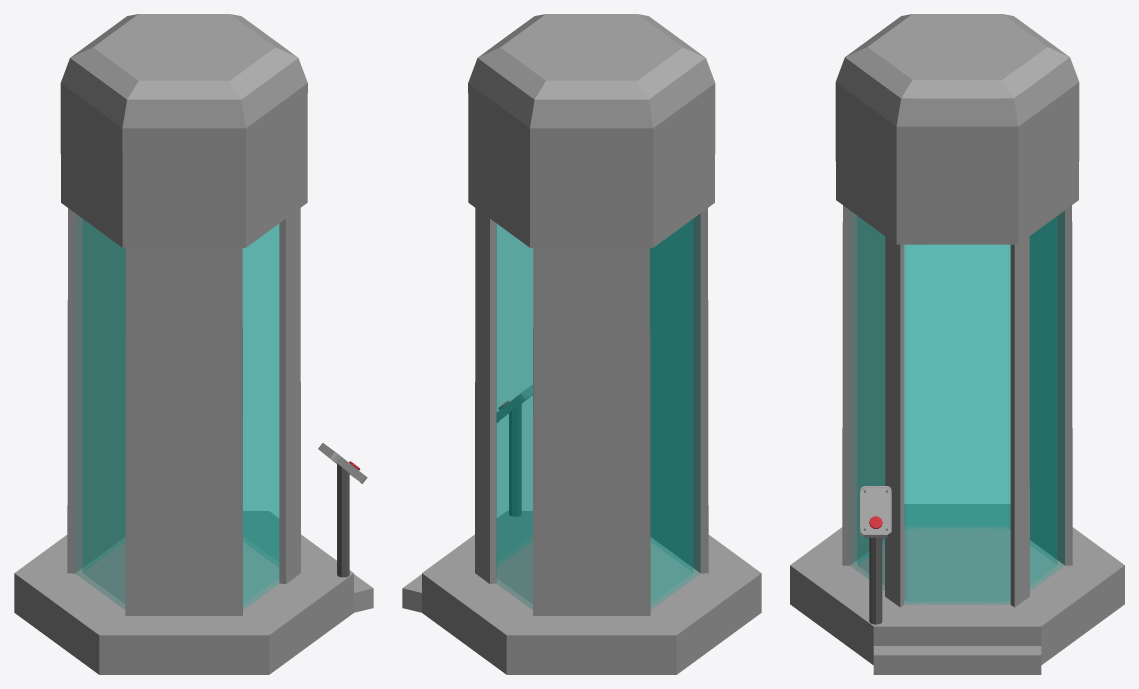
File: Gravity.fbx
3 renders of one model, left to right at view 1: azimuth 30°, elevation 25°; view 2: azimuth 150°, elevation 25°; view 3: azimuth 270°, elevation 25°, orthographic.
Parts seen in each view (by area): view 1: Цилиндр.001, Цилиндр.002, Цилиндр, Цилиндр.003; view 2: Цилиндр.001, Цилиндр.002, Цилиндр, Цилиндр.003; view 3: Цилиндр.001, Цилиндр.002, Цилиндр, Куб, Цилиндр.003.
Boxes of the visible parts, x1,y1,x2,y2 form: Цилиндр.001: (60,14,307,615); Цилиндр.002: (75,214,279,609); Цилиндр: (14,511,373,674); Цилиндр.003: (337,463,349,577); Цилиндр.001: (468,14,715,615); Цилиндр.002: (496,214,700,609); Цилиндр: (402,511,761,674); Цилиндр.003: (509,403,521,516); Цилиндр.001: (835,14,1079,607); Цилиндр.002: (850,211,1064,604); Цилиндр: (790,504,1124,674); Куб: (860,486,891,537); Цилиндр.003: (869,537,882,624).
Size of the model in its own units: 1361 by 2681 by 1460.
